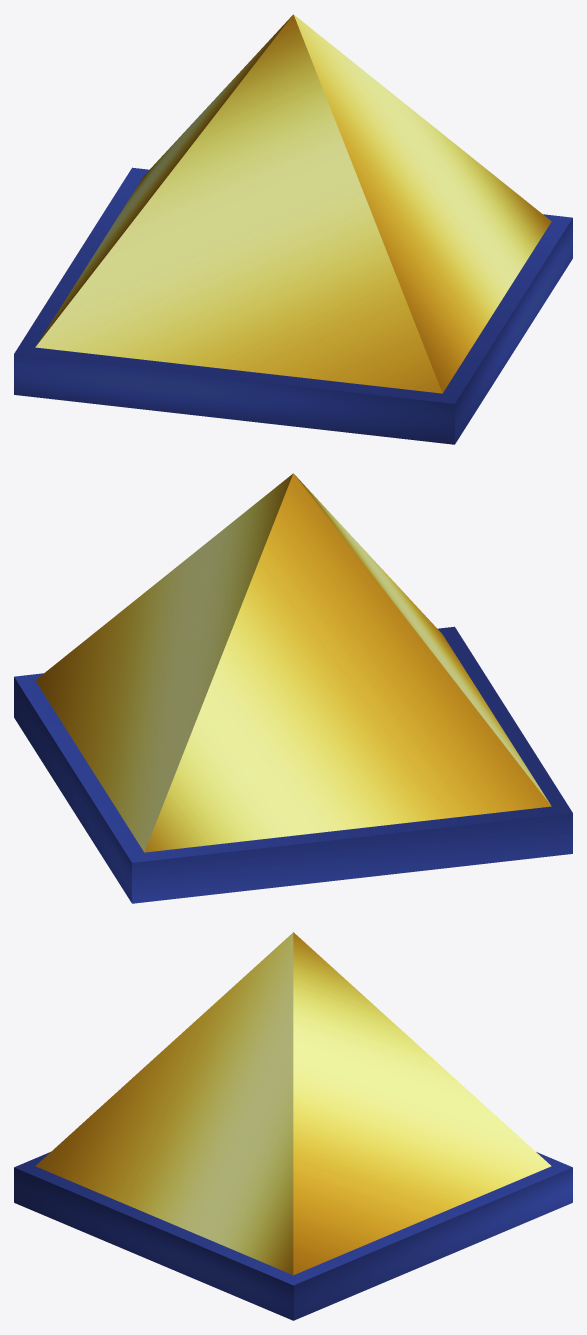
Rendered from goldpyramid.glb.
3 views of the same model, one above another, from view 1: azimuth 30°, elevation 25°; view 2: azimuth 150°, elevation 25°; view 3: azimuth 270°, elevation 25° (orthographic). The views are drawn at different scales.
Parts seen in each view (by area): view 1: Cone, Cube; view 2: Cone, Cube; view 3: Cone, Cube.
Boxes of the visible parts, left/top/right/bottom form: Cone: left=35, top=14, right=551, bottom=393; Cube: left=14, top=167, right=572, bottom=444; Cone: left=35, top=473, right=551, bottom=852; Cube: left=14, top=626, right=572, bottom=903; Cone: left=35, top=932, right=551, bottom=1275; Cube: left=14, top=1152, right=572, bottom=1320.
Bounding box in the file's own units: 10.79 × 5.76 × 10.79.
Materials: 2 (2 with a texture image).
